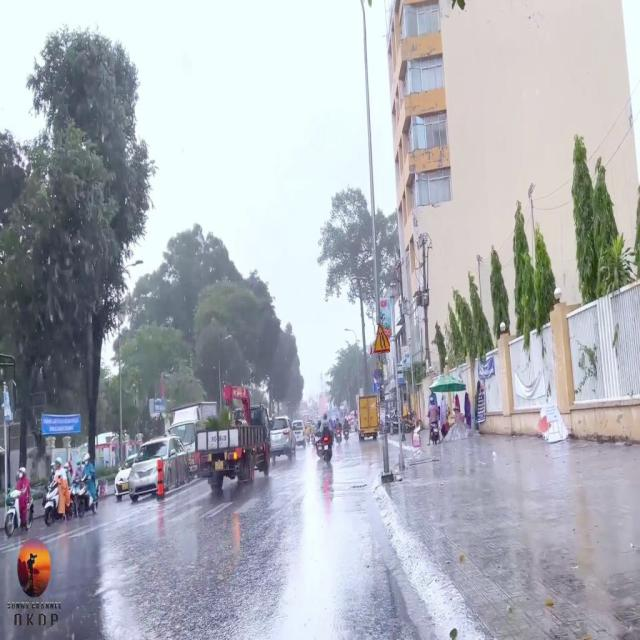khac: (369, 319, 390, 353)
